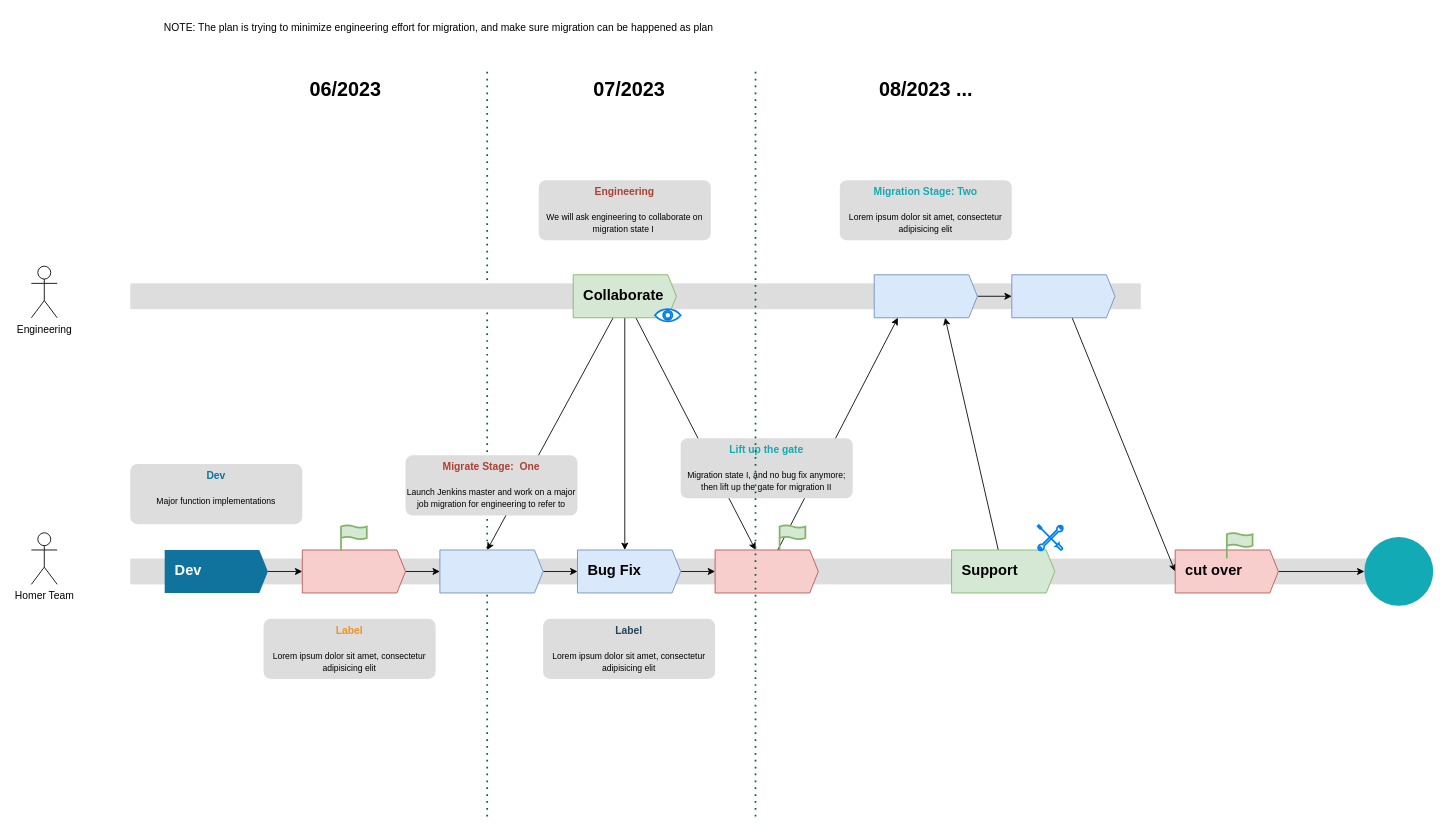
Some shapes in this 1447 by 832 pixel diagram are drawn without their labels. The centre of each missing label's shape, as x and y in pixels:
"Demo" goes at point 353,571.
"Done, Q3" goes at point 1398,571.
"Lift Gate" goes at point 766,571.
"Migrate I" goes at point 491,571.
"Migrate II" goes at point 925,296.
"Validate" goes at point 1063,296.
